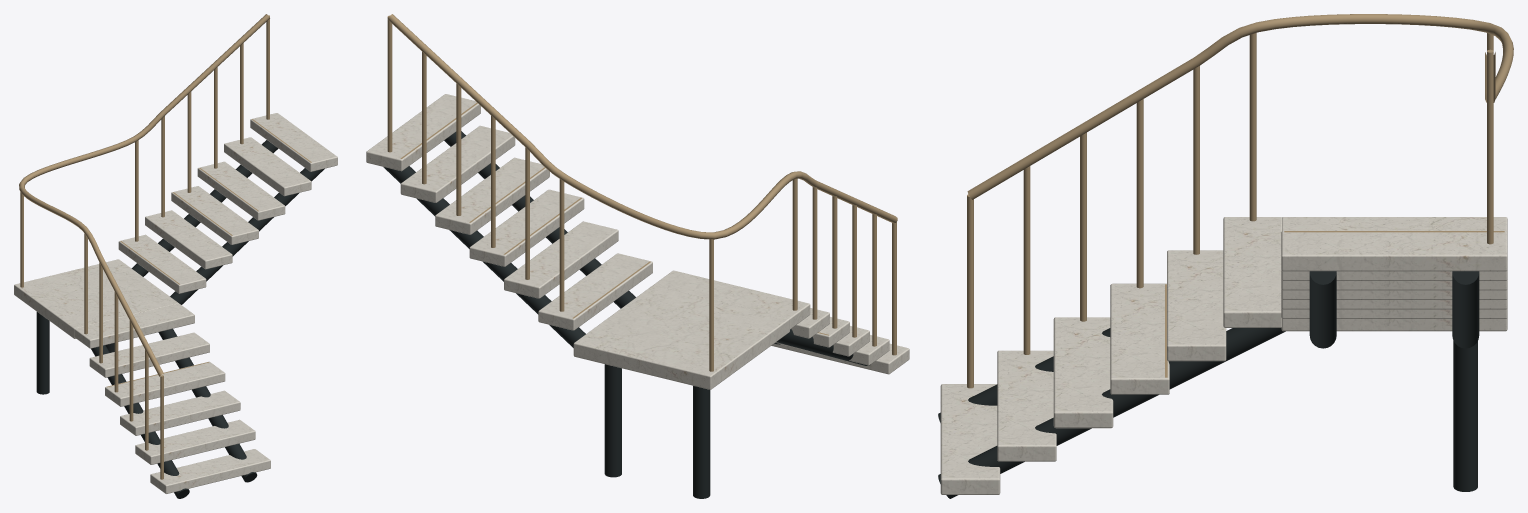
Rendered from studio-stone-turn-stair.glb.
The picture shows the model from 3 angles, left to right: view 1: azimuth 30°, elevation 25°; view 2: azimuth 150°, elevation 25°; view 3: azimuth 270°, elevation 25°; orthographic projection. The views are drawn at different scales.
Visible parts, largest first — view 1: stone_surfaces, bronze_surfaces, dark_surfaces; view 2: stone_surfaces, bronze_surfaces, dark_surfaces; view 3: stone_surfaces, bronze_surfaces, dark_surfaces.
Boxes of the visible parts, x1,y1,x2,y2 form: stone_surfaces: (14,113,337,493); bronze_surfaces: (19,14,311,479); dark_surfaces: (36,140,324,498); stone_surfaces: (366,94,909,389); bronze_surfaces: (387,14,897,371); dark_surfaces: (383,131,870,498); stone_surfaces: (940,217,1507,494); bronze_surfaces: (967,14,1513,388); dark_surfaces: (938,271,1479,498).
Size of the model in its own units: 2.38 by 2.69 by 2.34.
3 materials, 1 textured.
